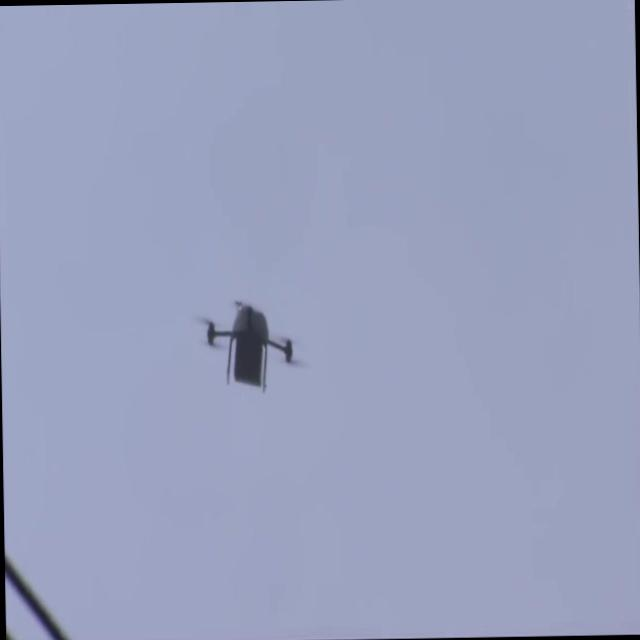drone: (196, 296, 300, 396)
